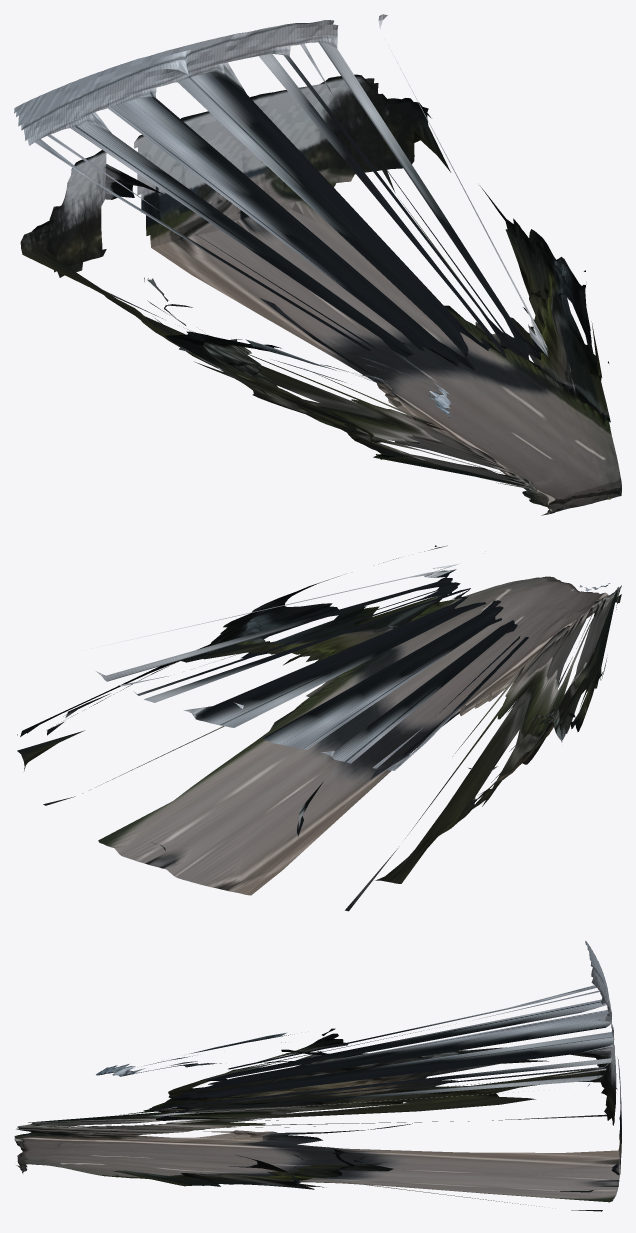
3 views of the same model, one above another, from view 1: azimuth 30°, elevation 25°; view 2: azimuth 150°, elevation 25°; view 3: azimuth 270°, elevation 25° (orthographic). The views are drawn at different scales.
Visible parts, largest first — view 1: defaultobject; view 2: defaultobject; view 3: defaultobject.
Part boxes in pixels (x1,y1,x2,y2): defaultobject: [14, 14, 621, 515]; defaultobject: [17, 545, 621, 911]; defaultobject: [14, 941, 621, 1211].
Bounding box in the file's own units: 27.53 × 12.7 × 44.41.
Materials: 1 (1 with a texture image).
